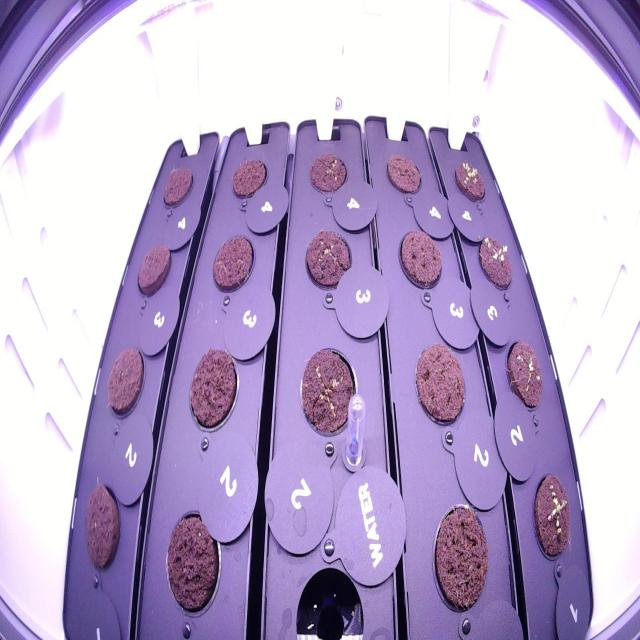germination: (527, 457, 575, 575), (500, 327, 546, 418), (472, 225, 515, 296), (449, 150, 488, 208)
pod: (158, 500, 226, 626), (427, 492, 492, 621), (295, 342, 363, 450), (183, 340, 241, 445), (411, 335, 468, 439), (79, 472, 127, 584), (300, 220, 355, 297), (102, 339, 148, 427), (396, 220, 446, 294), (206, 226, 256, 300), (132, 238, 174, 304), (225, 150, 270, 207), (305, 147, 350, 202), (383, 144, 425, 202), (158, 154, 196, 214)
